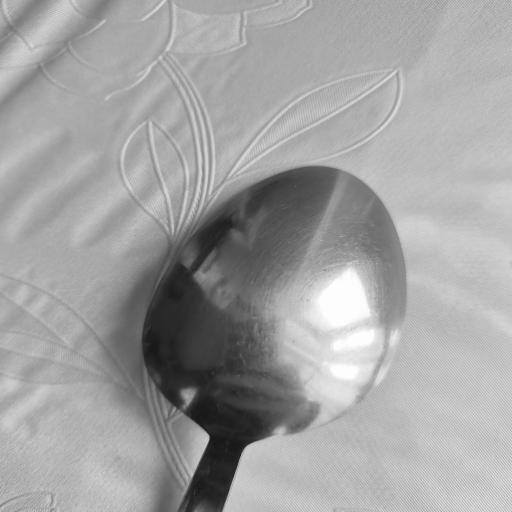spoon: (135, 159, 394, 512)
